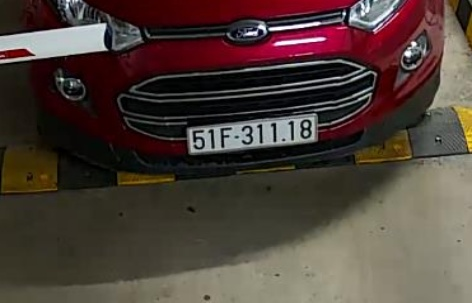plate: (184, 109, 321, 158)
